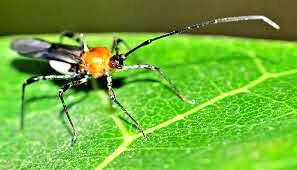Helopeltis-insect: (10, 38, 152, 89)
